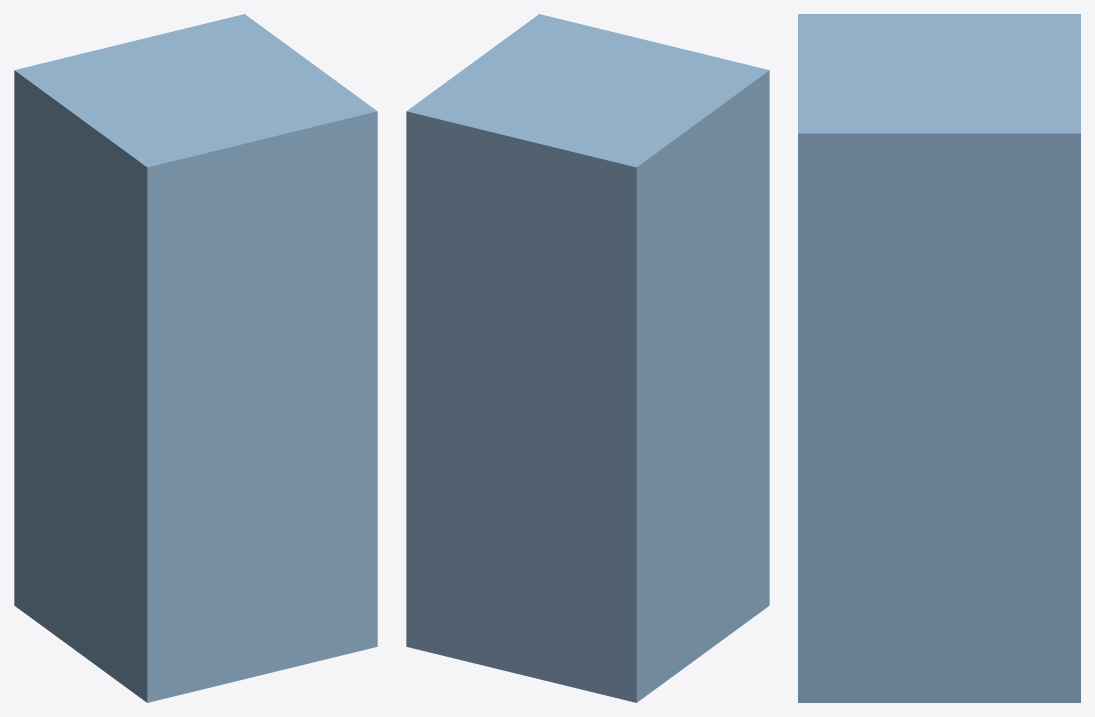
File: elevator.glb
3 renders of one model, left to right at view 1: azimuth 30°, elevation 25°; view 2: azimuth 150°, elevation 25°; view 3: azimuth 270°, elevation 25°, orthographic. The views are drawn at different scales.
Parts seen in each view (by area): view 1: Mesh; view 2: Mesh; view 3: Mesh.
Boxes of the visible parts, <box> form: Mesh: <box>14,14,377,702</box>; Mesh: <box>406,14,769,702</box>; Mesh: <box>798,14,1080,702</box>.
Size of the model in its own units: 0.9 by 2 by 0.9.
